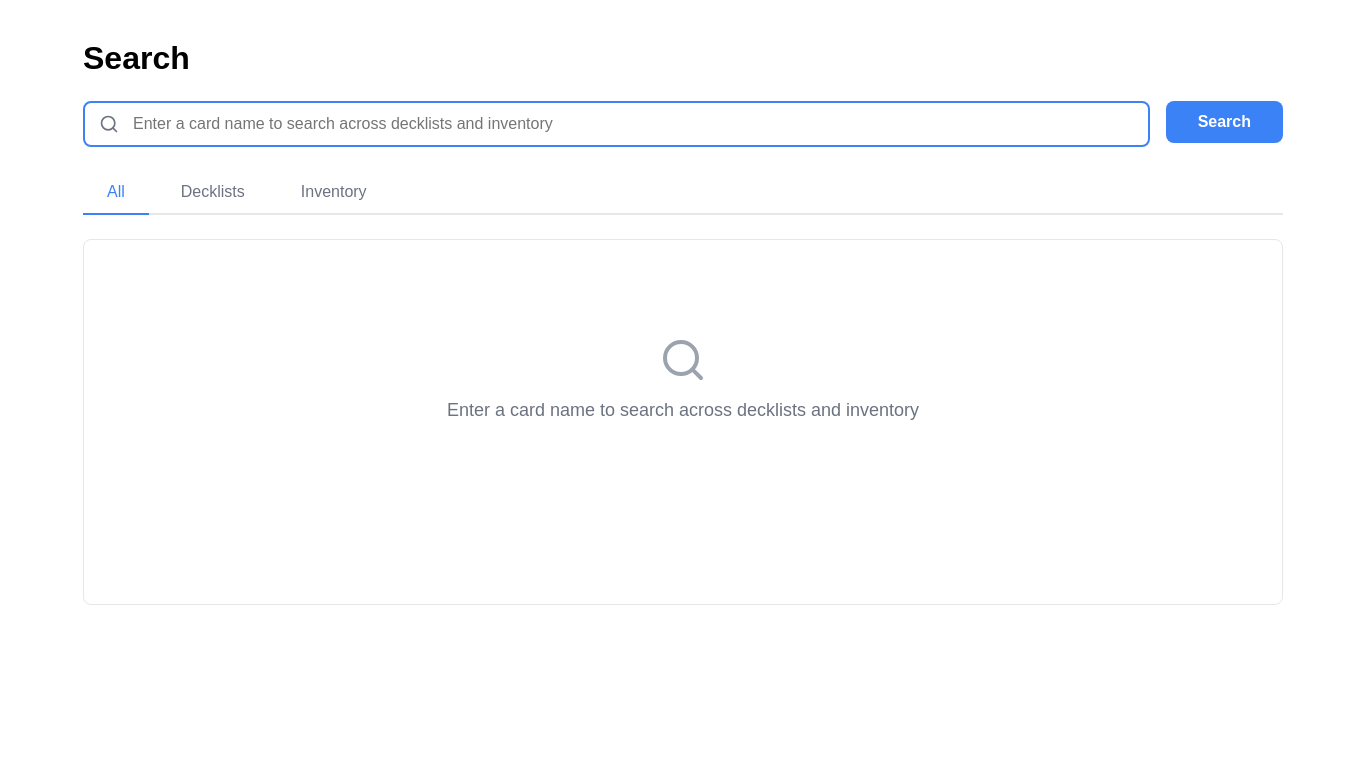
it: Search Validation › should show validation error for single character query
Type "a" into the field with placeholder "Enter a card name to search across decklists and inventory". click: (616,124)
box: [83,101,1150,147]
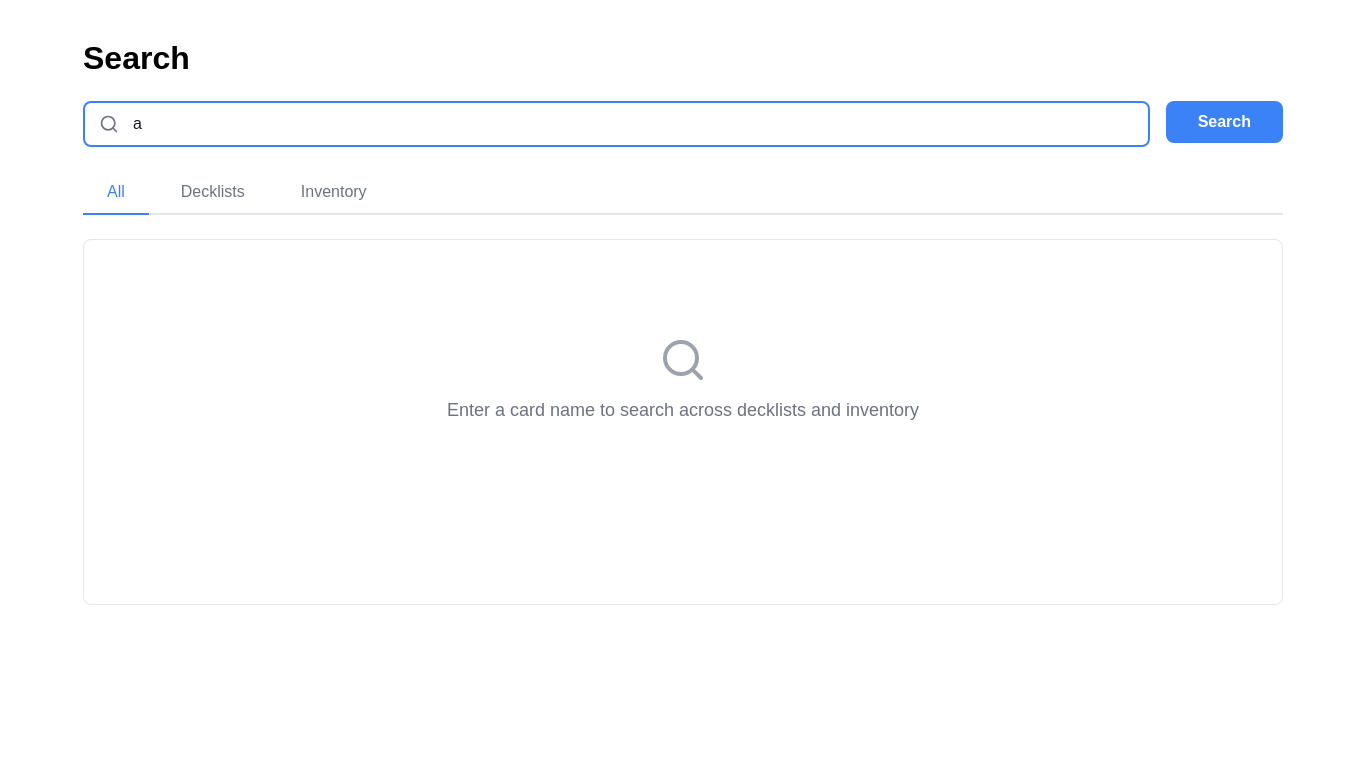
Click the button "Search". click: (1224,122)
box: [1166,101,1283,143]
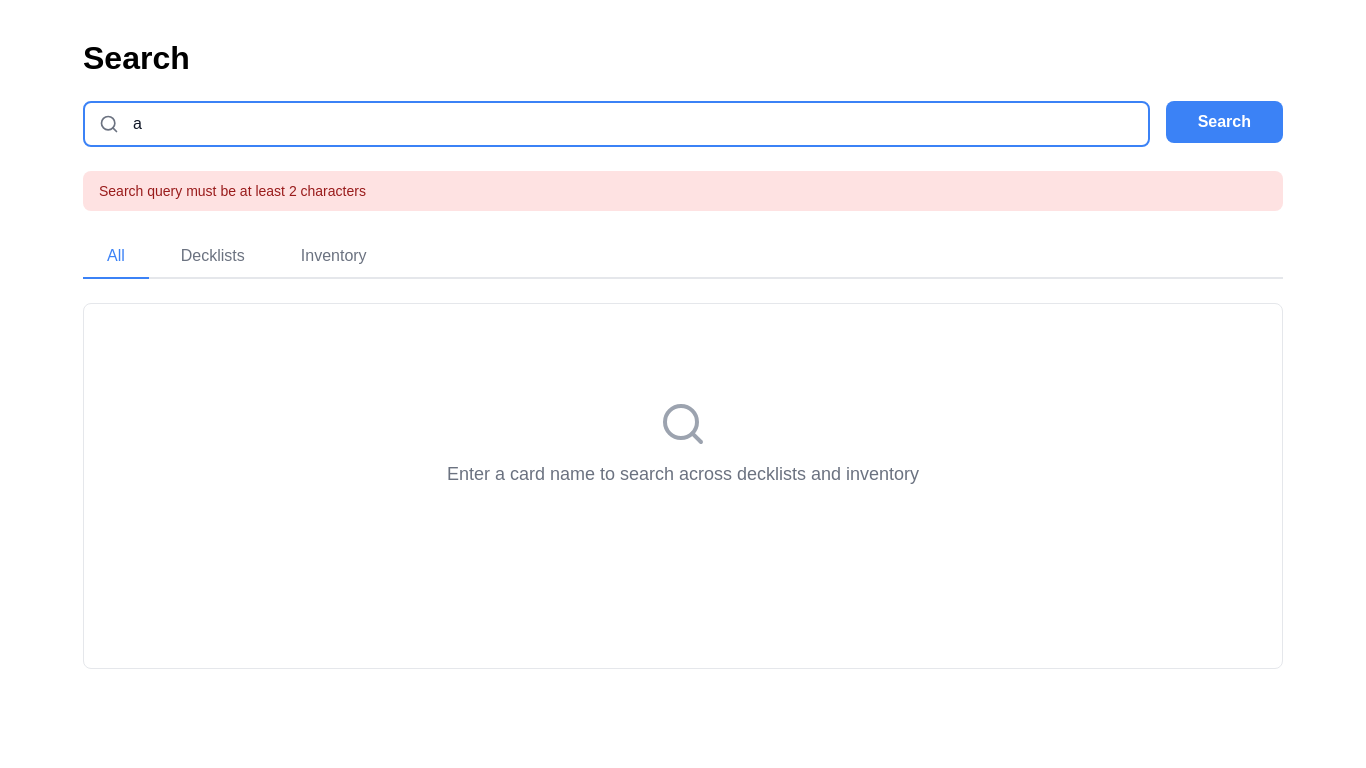
Expected: the text "Search query must be at least 2 characters" is shown, [83,171,1283,211]
